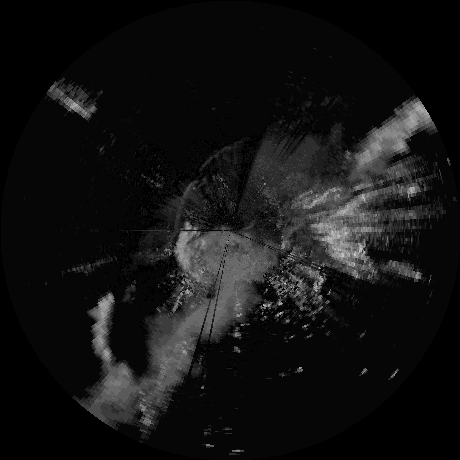frontgust: (168, 182, 193, 246), (198, 146, 230, 169)
